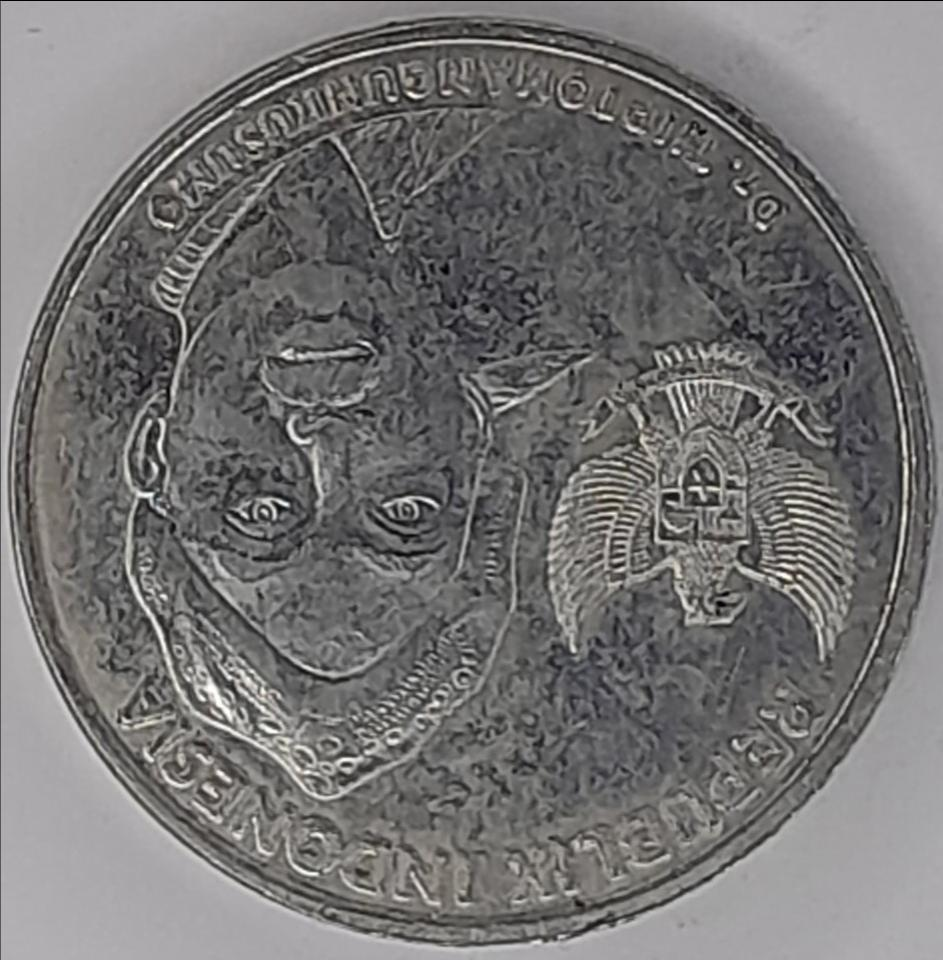coin_200_e2016: (0, 17, 943, 960)
